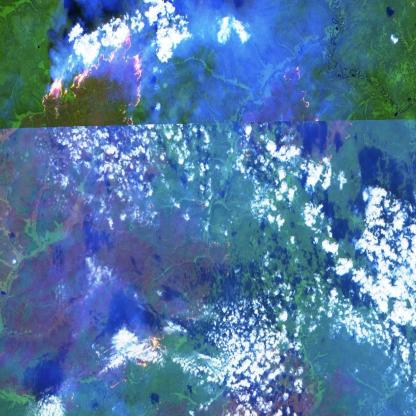fire: (38, 18, 143, 124), (282, 60, 314, 110), (133, 326, 168, 370)
